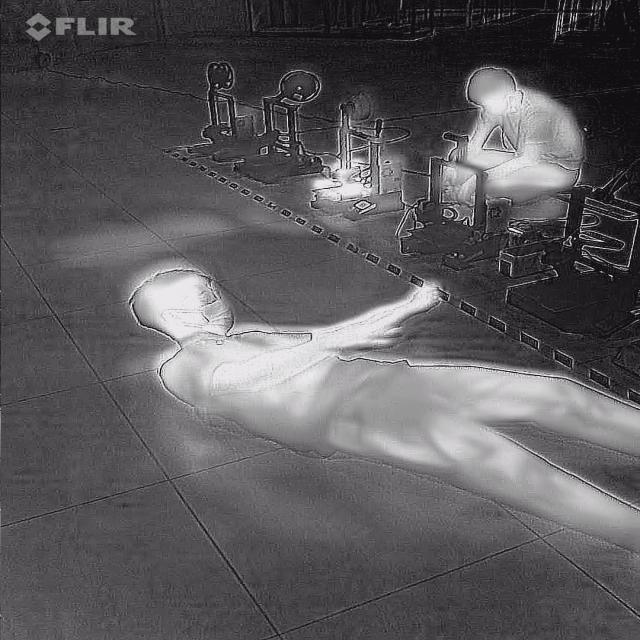Victim: (120, 262, 638, 553), (427, 52, 591, 222)
